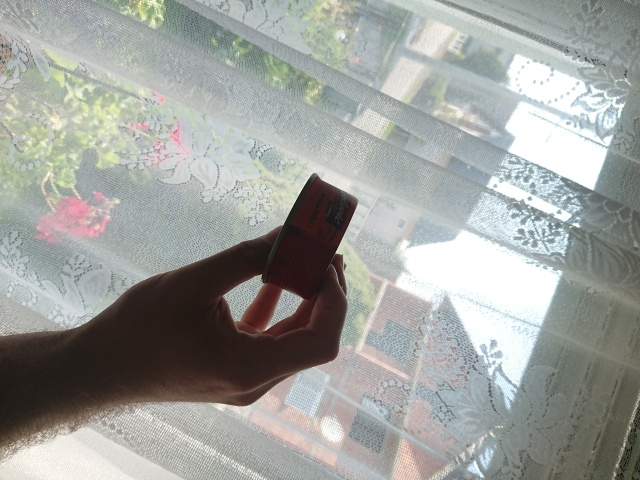Gavrilovic Pork Liver Pate 100g: (257, 169, 360, 303)
